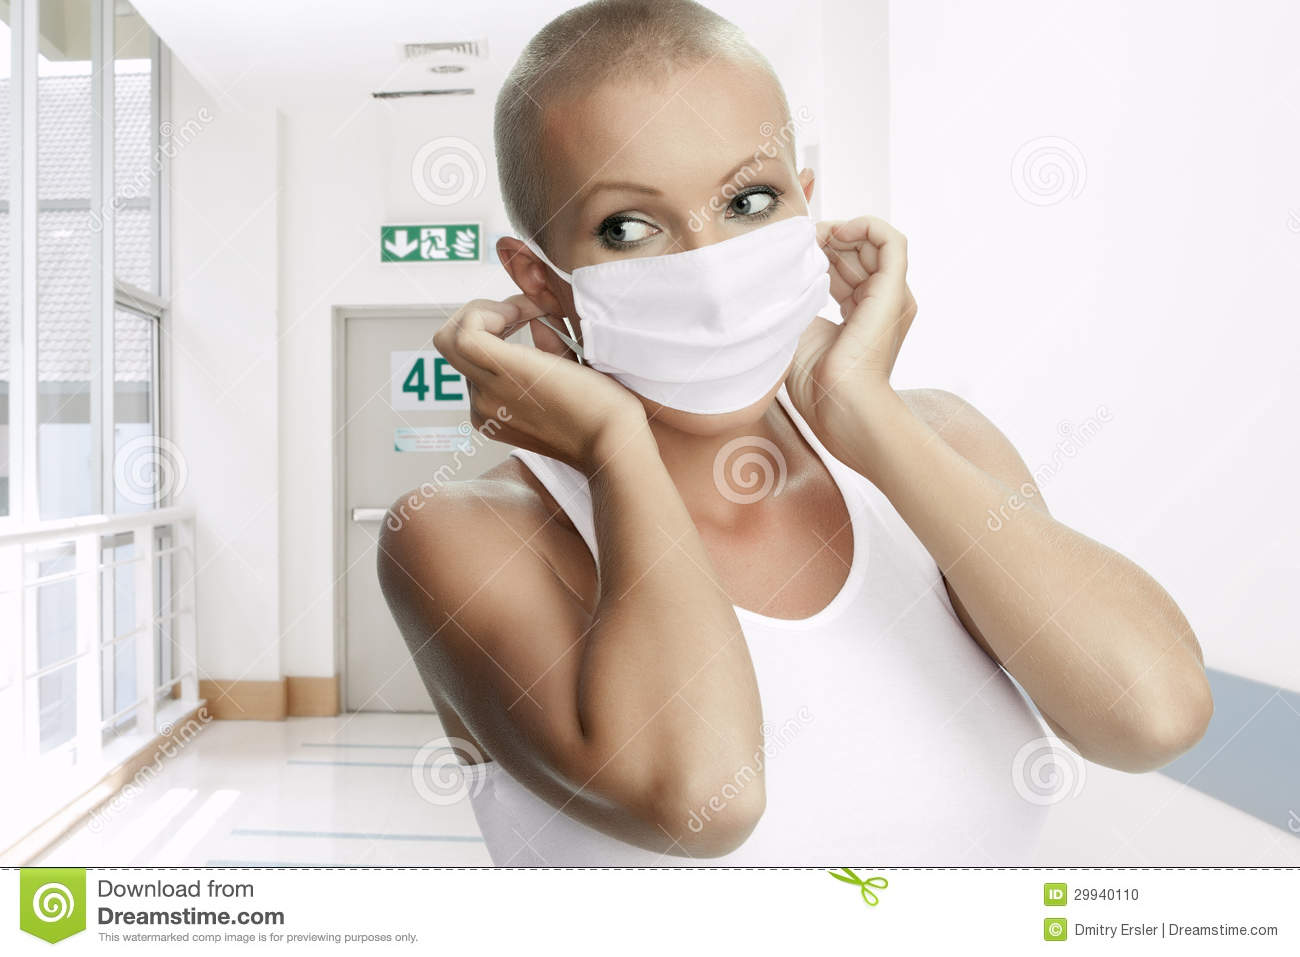mask: (578, 226, 839, 417)
